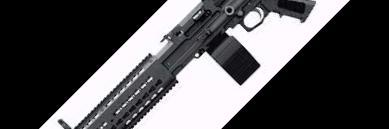larga: (57, 0, 316, 129)
